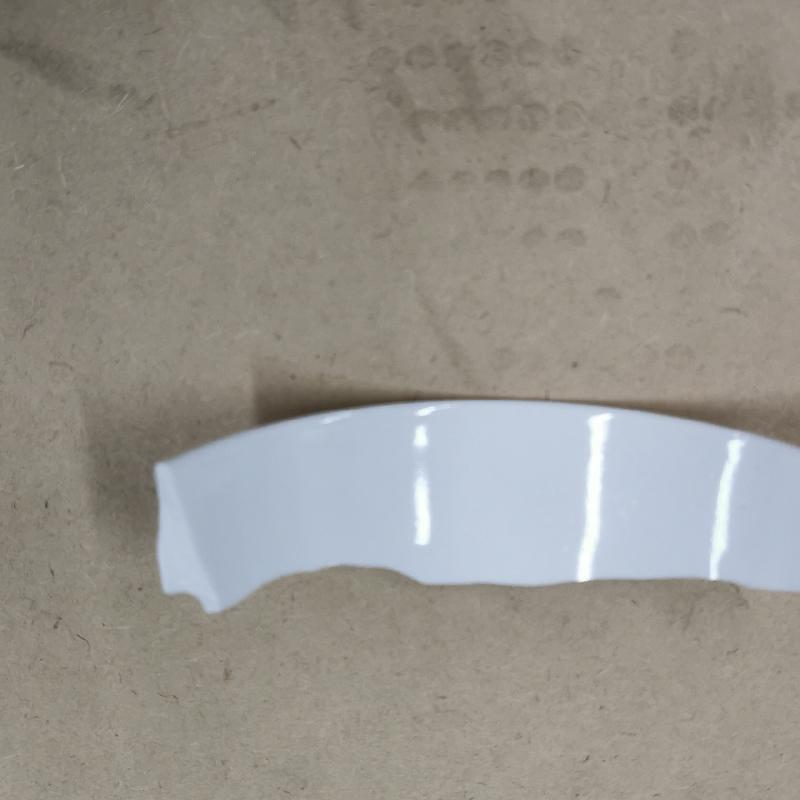ceram: (149, 392, 800, 622)
